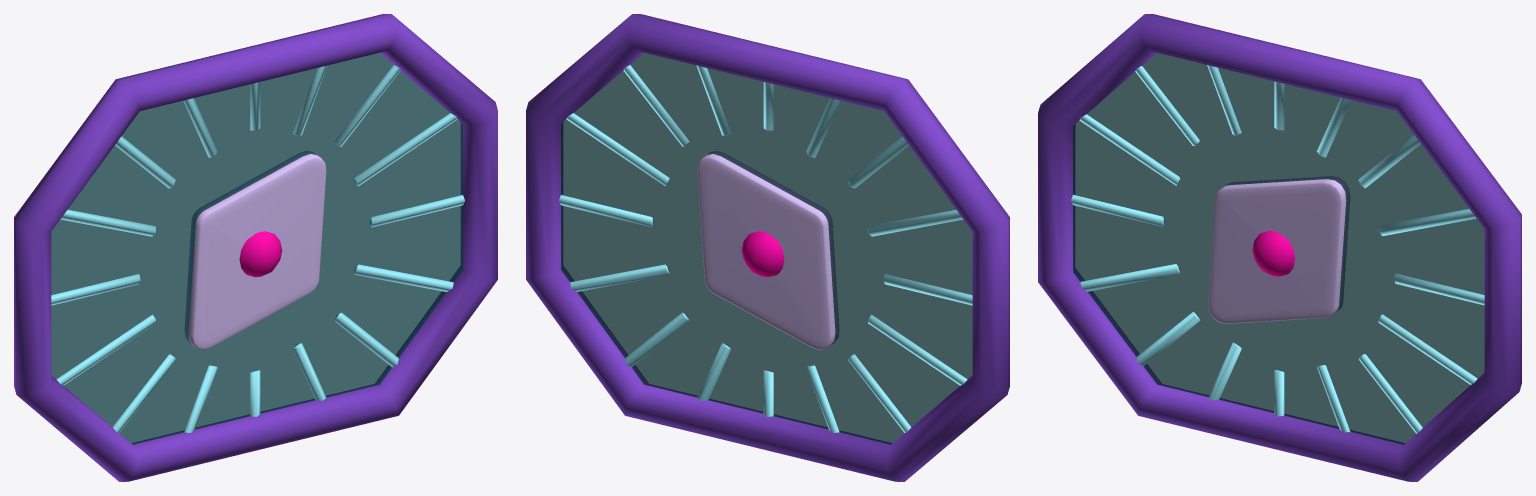
File: ExplorersBadgeRem.glb
3 renders of one model, left to right at view 1: azimuth 30°, elevation 25°; view 2: azimuth 150°, elevation 25°; view 3: azimuth 330°, elevation 25°, orthographic.
Size of the model in its own units: 5.02 by 4.02 by 0.4896.
